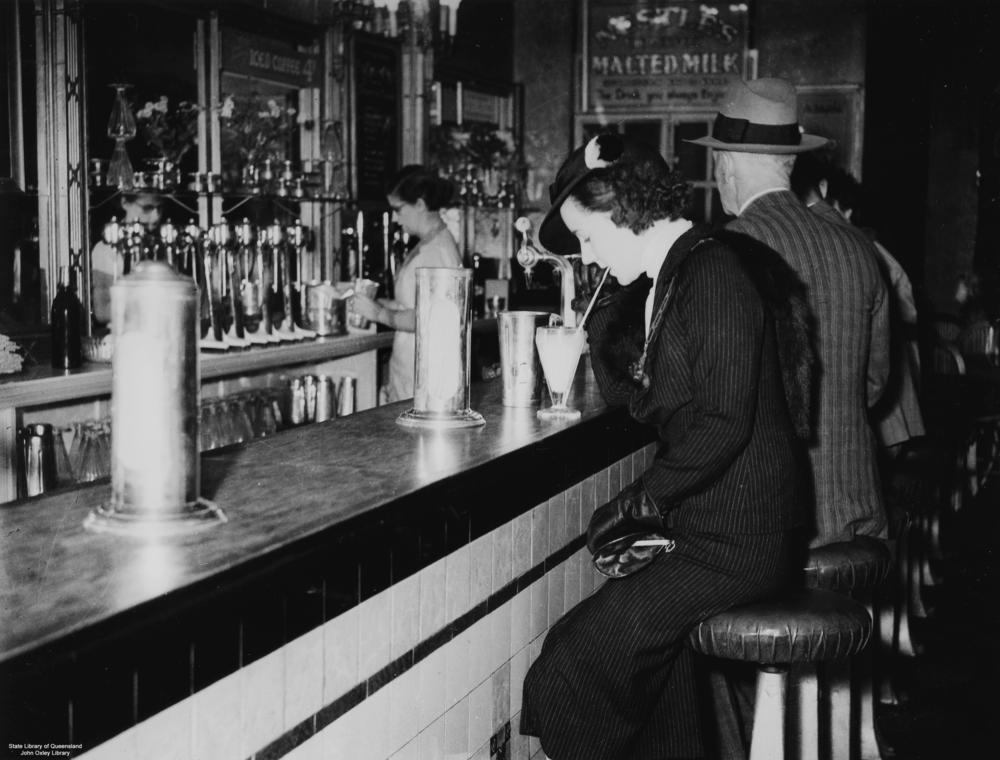glass of milk: (531, 325, 587, 420)
